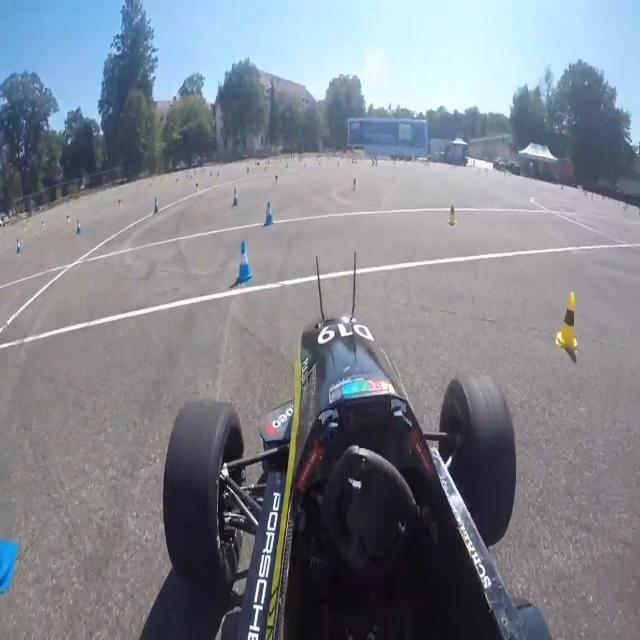blue_cone: (238, 238, 251, 282), (265, 199, 273, 226), (152, 196, 159, 214), (74, 217, 81, 235), (232, 187, 238, 207), (16, 238, 22, 255)
yellow_cone: (554, 283, 577, 352), (447, 201, 457, 226), (352, 175, 357, 190), (195, 182, 200, 196), (65, 213, 70, 225), (274, 172, 278, 184), (118, 197, 122, 209)
